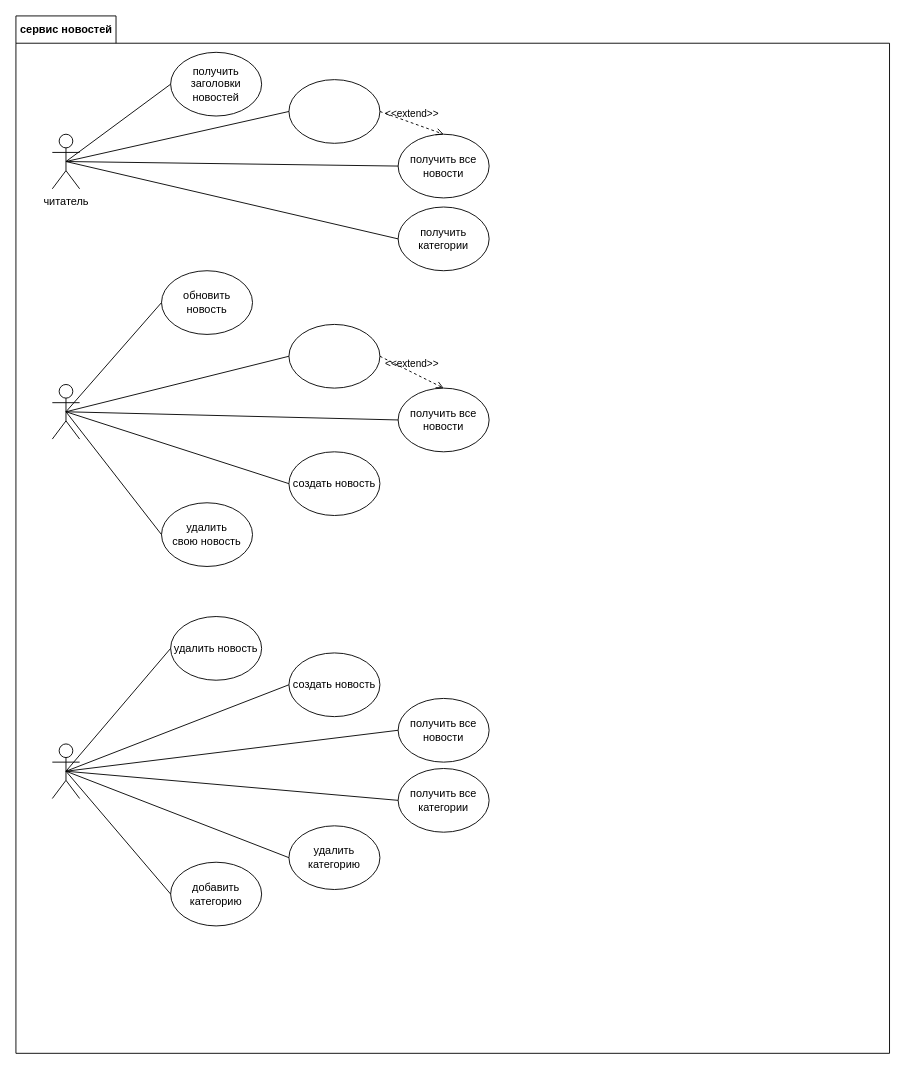
This 905x1069 diagram has some shape labels left out. Here are the shapes that lost their labels. From the top down, the centre of each, then its label:
At pixel 334 111: "получить положительные новости".
At pixel 334 356: "получить свои новости".
At pixel 65 411: "автор".
At pixel 65 771: "администратор".
